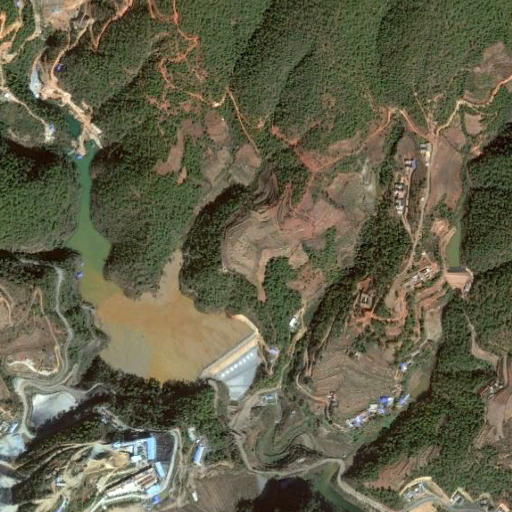tp: (72, 139, 262, 402)
